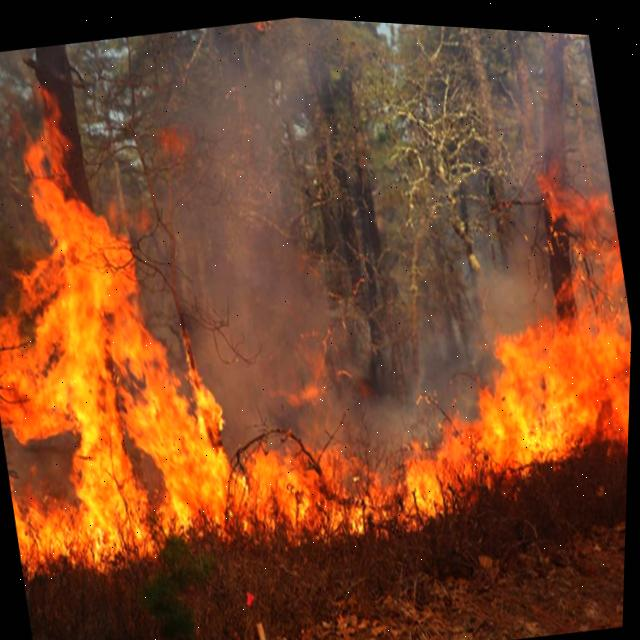fire: (0, 99, 633, 582)
smoke: (159, 100, 342, 444)
